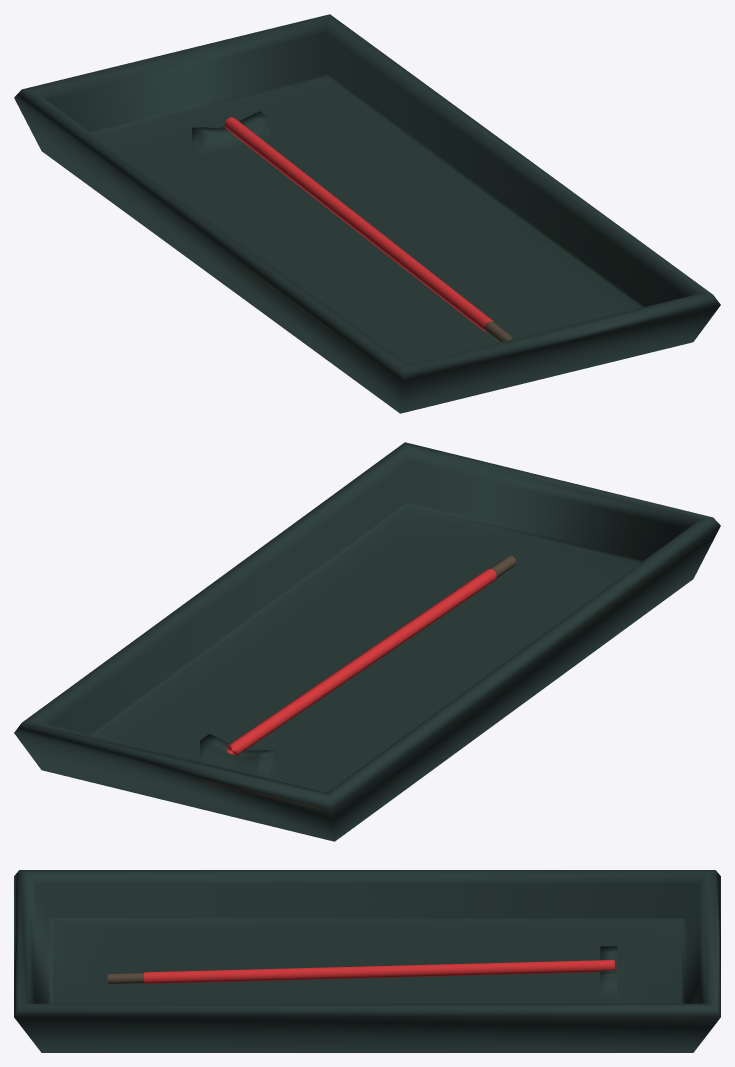
The model's file is ENCENSE.fbx.
The picture shows the model from 3 angles, top to bottom: view 1: azimuth 30°, elevation 25°; view 2: azimuth 150°, elevation 25°; view 3: azimuth 270°, elevation 25°; orthographic projection. The views are drawn at different scales.
Visible parts, largest first — view 1: Cube, Cylinder; view 2: Cube, Cylinder; view 3: Cube, Cylinder.
Part boxes in pixels (<box>): Cube: <box>14,14,720,413</box>; Cylinder: <box>224,117,513,342</box>; Cube: <box>14,442,720,841</box>; Cylinder: <box>226,555,516,755</box>; Cube: <box>14,870,720,1052</box>; Cylinder: <box>107,960,614,983</box>.
Size of the model in its own units: 46.94 by 7.71 by 99.51.
1 material, 1 textured.
